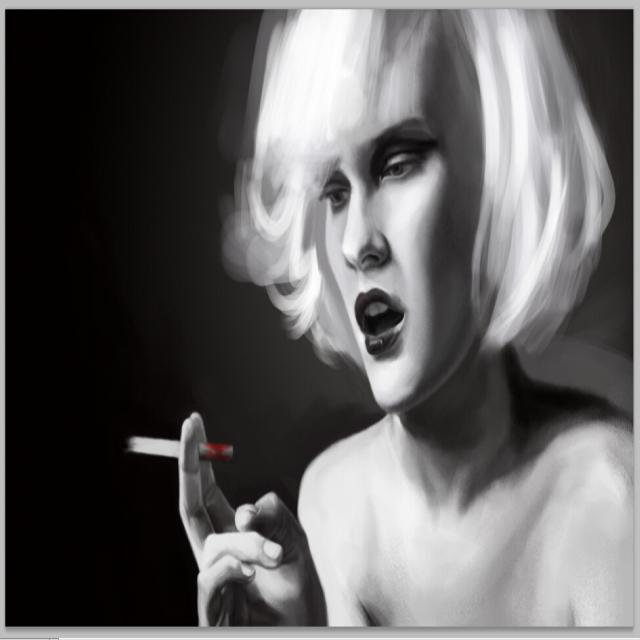cigarette: (124, 427, 235, 468)
